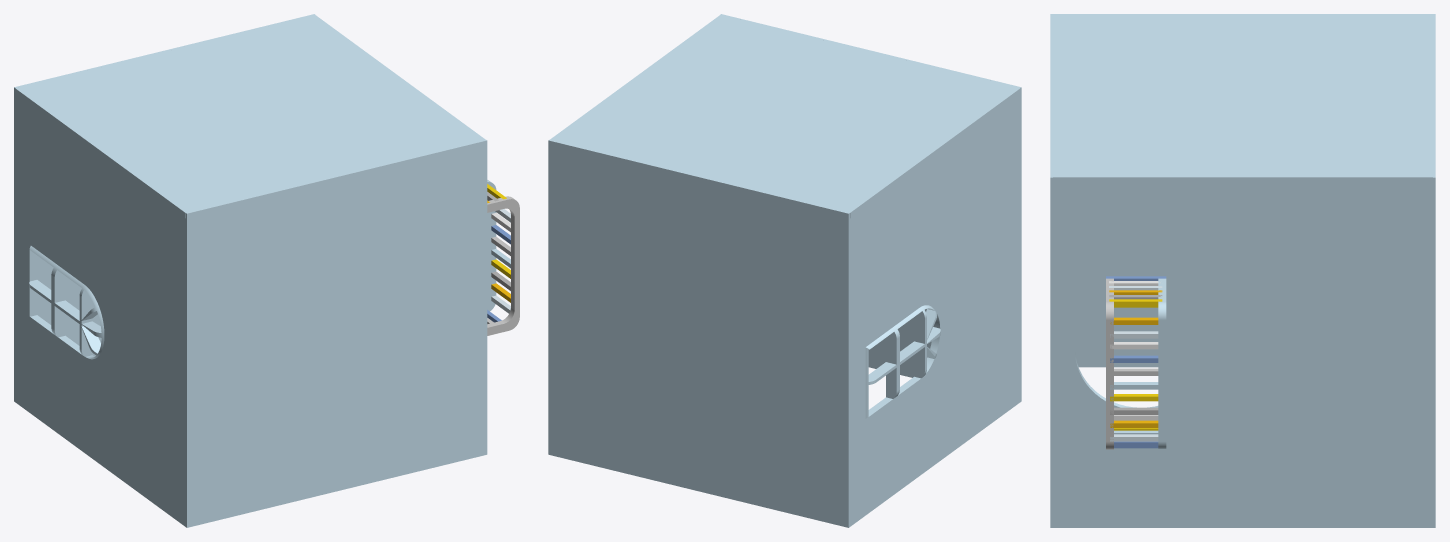
The model's file is Assembly.gltf.
3 renders of one model, left to right at view 1: azimuth 30°, elevation 25°; view 2: azimuth 150°, elevation 25°; view 3: azimuth 270°, elevation 25°, orthographic. The views are drawn at different scales.
Visible parts, largest first — view 1: Part 1 (×5), Part 2; view 2: Part 1 (×5); view 3: Part 1 (×6), Part 2.
Part boxes in pixels (x1,y1,x2,y2): Part 1 (×5): (14,14,496,527); Part 2: (487,196,519,335); Part 1 (×5): (548,14,1021,527); Part 1 (×6): (1050,14,1435,527); Part 2: (1106,278,1113,449).
Size of the model in its own units: 0.1694 by 0.14 by 0.1395.
